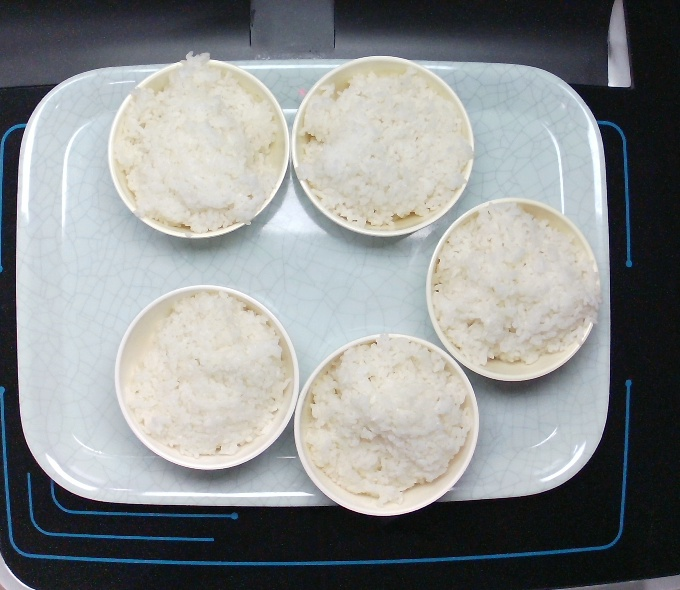wcq-MiFan: (299, 63, 475, 234), (424, 203, 597, 374), (116, 59, 279, 233), (310, 332, 473, 506), (119, 296, 284, 463)
